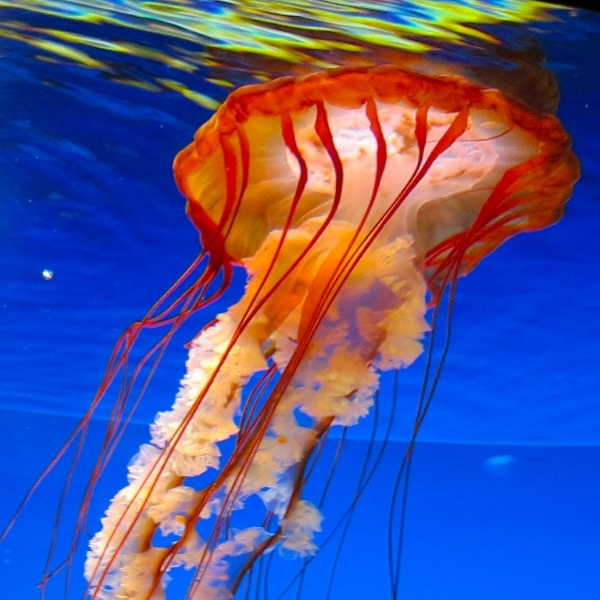Jellyfish: (37, 39, 588, 600)
